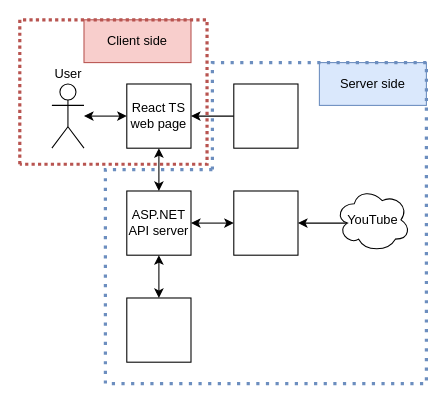
The diagram is 447 pixels wide and 404 high, and some of its shapes have lost their labels. The shapes that lost their labels are listed below. From the top down, each one's centre as x and y in pixels, then its label:
point (265, 115): Nginx server
point (265, 222): yt-dlp scripts
point (158, 329): MS SQL Server
